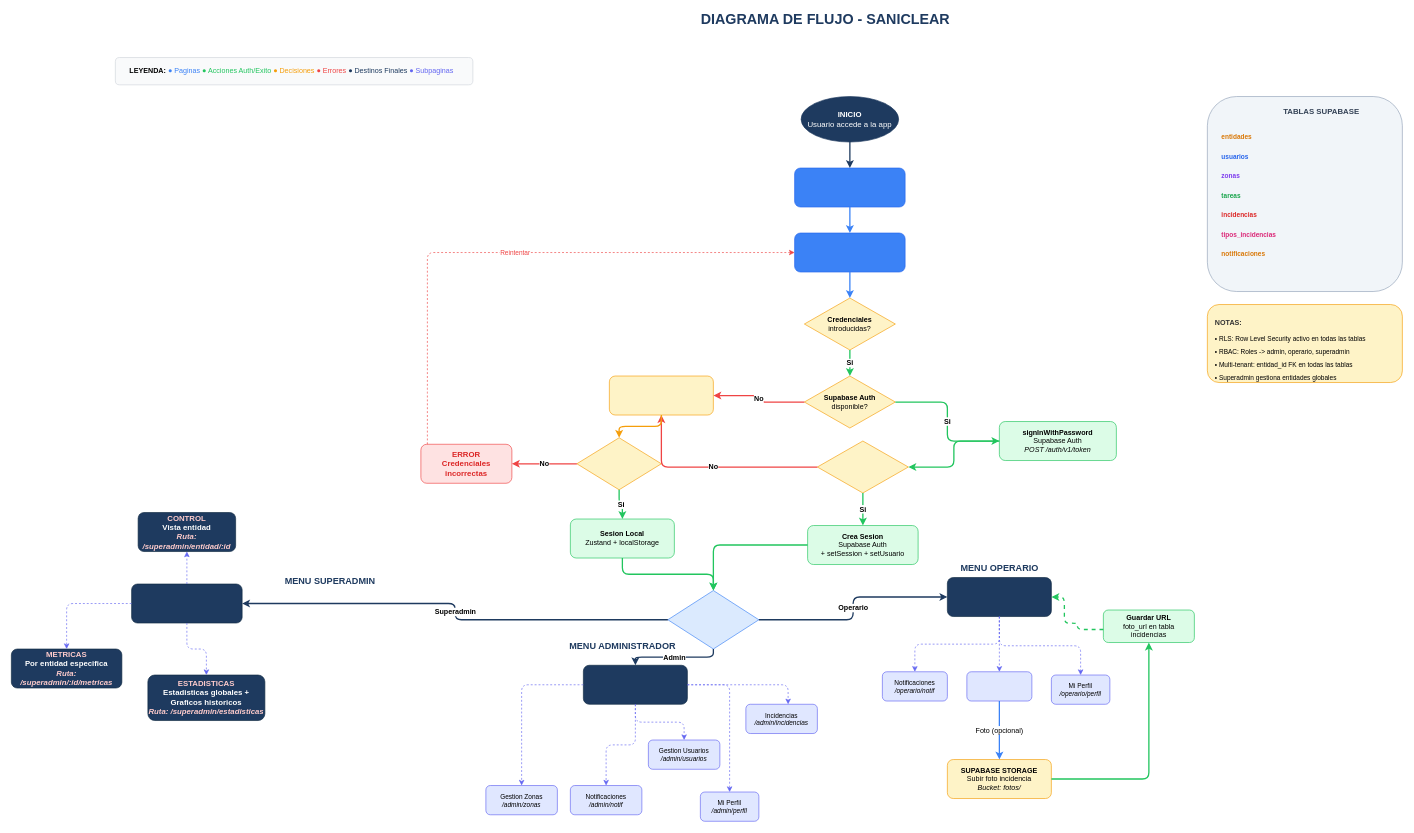
The diagram is 1414 pixels wide and 833 high, and some of its shapes have lost their labels. Here are the shapes that lost their labels. From the top down, the centre of each, then its label:
At (849,187): "LANDING PAGE Pagina publica Ruta: /".
At (849,252): "LOGIN Formulario acceso Ruta: /login".
At (661,395): "findMockUser() Busca en MOCK_USERS con MOCK_PASSWORDS".
At (618,463): "Coincide con mock?".
At (862,466): "Login correcto?".
At (186,603): "PANEL GLOBAL Lista entidades Ruta: /superadmin".
At (999,597): "MIS TAREAS Tareas del operario Ruta: /operario".
At (713,619): "Rol del usuario?".
At (635,684): "DASHBOARD Panel de Control Ruta: /admin".
At (999,686): "Incidencias /operario/incidencias".
